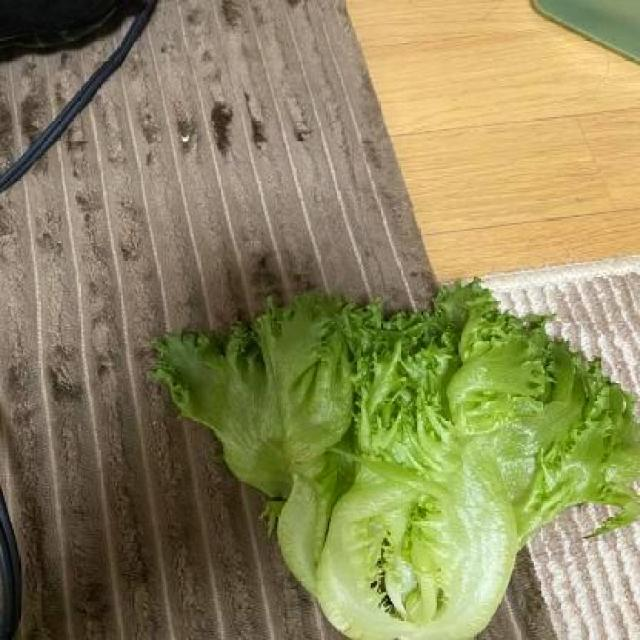Lettuce: (142, 272, 640, 640)
